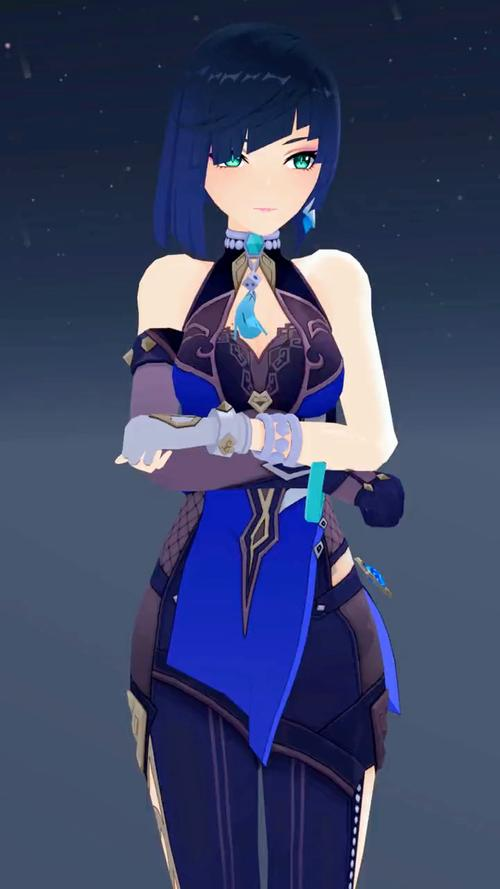夜兰: (111, 24, 404, 889)
